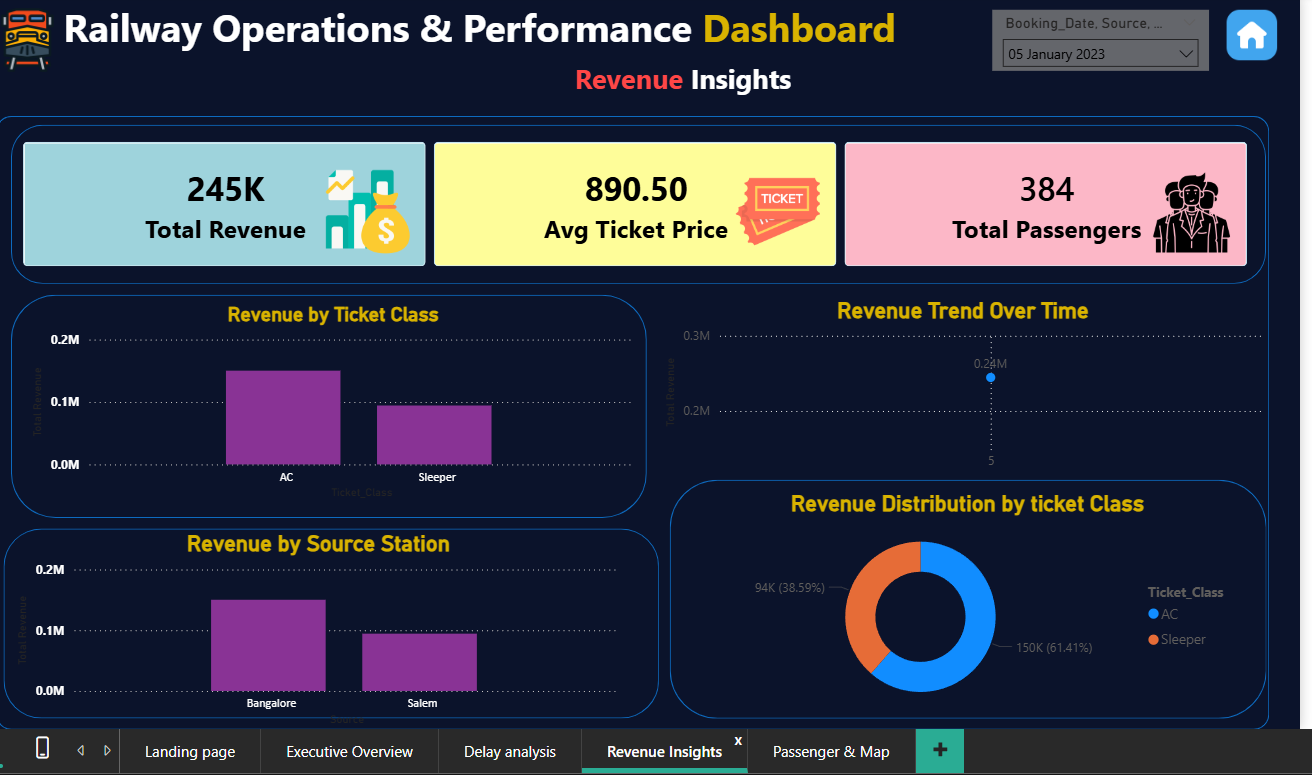

The dashboard page shown, as its layout file describes it:
{"tool":"powerbi","page":{"name":"Revenue Insights","canvas":[1280,720],"ordinal":3},"visuals":[{"type":"shape","box":[650.5,295.4,578.4,227.5],"z":0},{"type":"shape","box":[131.3,341.1,598.8,193.9],"z":1000},{"type":"shape","box":[535.2,359.5,367.8,178.4],"z":2000},{"type":"image","box":[0,0,61.7,86.4],"z":3000},{"type":"textbox","box":[61.7,0,916.6,63.1],"z":4000},{"type":"shape","box":[0,118.2,1249.7,602.5],"z":5000},{"type":"shape","box":[15.2,125.8,1231.9,156.2],"z":6000},{"type":"cardVisual","fields":{"Data":["Measure_Table.Total Revenue","Measure_Table.Avg Ticket Price","Measure_Table.Total Passengers"]},"box":[9.7,125.8,1237.4,156.2],"z":7000},{"type":"textbox","box":[563.2,58.3,233,58.3],"z":8000},{"type":"shape","box":[15.3,292.7,624.2,219.2],"z":9000},{"type":"clusteredColumnChart","title":"Revenue by Ticket Class","fields":{"Category":["railways.Ticket_Class"],"Y":["Measure_Table.Total Revenue"]},"box":[30.5,302.4,600.6,197],"z":10000},{"type":"lineChart","title":"Revenue Trend Over Time","fields":{"Category":["railways.Booking_Date.Variation.Date Hierarchy.Day"],"Y":["Measure_Table.Total Revenue"]},"box":[651.5,295.5,595.3,178.7],"z":11000},{"type":"shape","box":[6.9,522.8,643.6,186.6],"z":12000},{"type":"shape","box":[661.4,474.8,585.9,234.6],"z":13000},{"type":"clusteredColumnChart","title":"Revenue by Source Station","fields":{"Y":["Measure_Table.Total Revenue"],"Category":["railways.Source"]},"box":[15.9,524.7,601.1,196],"z":14000},{"type":"donutChart","title":"Revenue  Distribution by ticket Class","fields":{"Category":["railways.Ticket_Class"],"Y":["Measure_Table.Total Revenue"]},"box":[680.4,485.8,547.7,223.4],"z":15000},{"type":"image","box":[317.1,170.1,96.6,82.2],"z":16000},{"type":"image","box":[1131.5,170.1,85,82.2],"z":17000},{"type":"image","box":[719.3,170.1,96.6,82.2],"z":18000},{"type":"slicer","fields":{"Values":["railways.Booking_Date","railways.Source","railways.Ticket_Class"]},"box":[978.4,13.7,212.7,60.4],"z":19000},{"type":"image","box":[1197.9,13.7,70,49.4],"z":20000}]}

Visuals, with their boxes on the page's 1280x720 design canvas (x1, y1, x2, y2). These are canvas units, not pixel positions in the 1312x775 screenshot, which may show the page scaled, cropped or inside an application window:
shape: (left=650, top=295, right=1229, bottom=523)
shape: (left=131, top=341, right=730, bottom=535)
shape: (left=535, top=360, right=903, bottom=538)
image: (left=0, top=0, right=62, bottom=86)
textbox: (left=62, top=0, right=978, bottom=63)
shape: (left=0, top=118, right=1250, bottom=721)
shape: (left=15, top=126, right=1247, bottom=282)
cardVisual - Measure_Table.Total Revenue x Measure_Table.Avg Ticket Price: (left=10, top=126, right=1247, bottom=282)
textbox: (left=563, top=58, right=796, bottom=117)
shape: (left=15, top=293, right=640, bottom=512)
"Revenue by Ticket Class" clusteredColumnChart: (left=30, top=302, right=631, bottom=499)
"Revenue Trend Over Time" lineChart: (left=652, top=296, right=1247, bottom=474)
shape: (left=7, top=523, right=650, bottom=709)
shape: (left=661, top=475, right=1247, bottom=709)
"Revenue by Source Station" clusteredColumnChart: (left=16, top=525, right=617, bottom=721)
"Revenue  Distribution by ticket Class" donutChart: (left=680, top=486, right=1228, bottom=709)
image: (left=317, top=170, right=414, bottom=252)
image: (left=1132, top=170, right=1216, bottom=252)
image: (left=719, top=170, right=816, bottom=252)
slicer - railways.Booking_Date x railways.Source: (left=978, top=14, right=1191, bottom=74)
image: (left=1198, top=14, right=1268, bottom=63)
